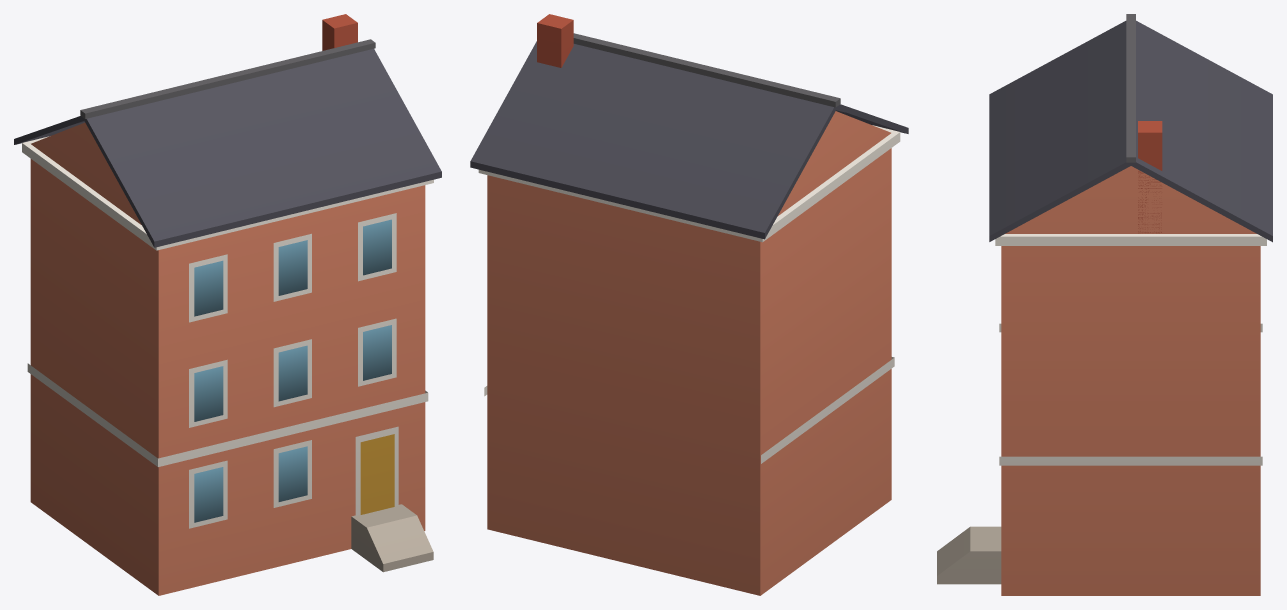
Rendered from lane_w11_far.glb.
The picture shows the model from 3 angles, left to right: view 1: azimuth 30°, elevation 25°; view 2: azimuth 150°, elevation 25°; view 3: azimuth 270°, elevation 25°; orthographic projection. The views are drawn at different scales.
Visible parts, largest first — view 1: lane_w11_far; view 2: lane_w11_far; view 3: lane_w11_far.
Part boxes in pixels (box(x1,y1,x2,y2)): lane_w11_far: box(14, 14, 441, 595); lane_w11_far: box(470, 14, 908, 595); lane_w11_far: box(937, 14, 1272, 595).
Bounding box in the file's own units: 9.8 × 14.79 × 9.71.
Materials: 1 (1 with a texture image).
